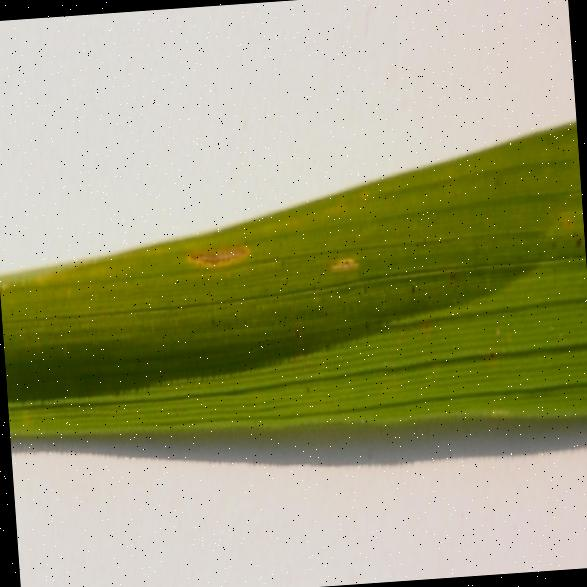Bacteria_Leaf_Blight: (156, 214, 268, 300), (310, 213, 402, 297)
